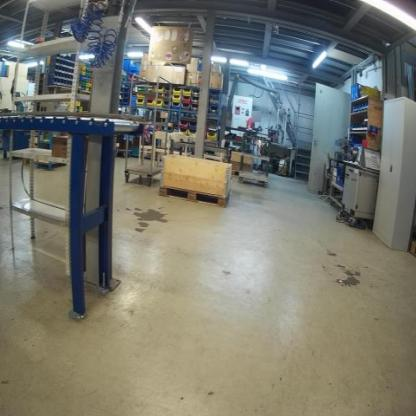pallet: (158, 184, 230, 209)
